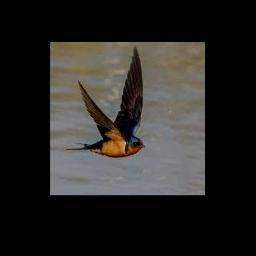Swallow: (66, 46, 146, 157)
